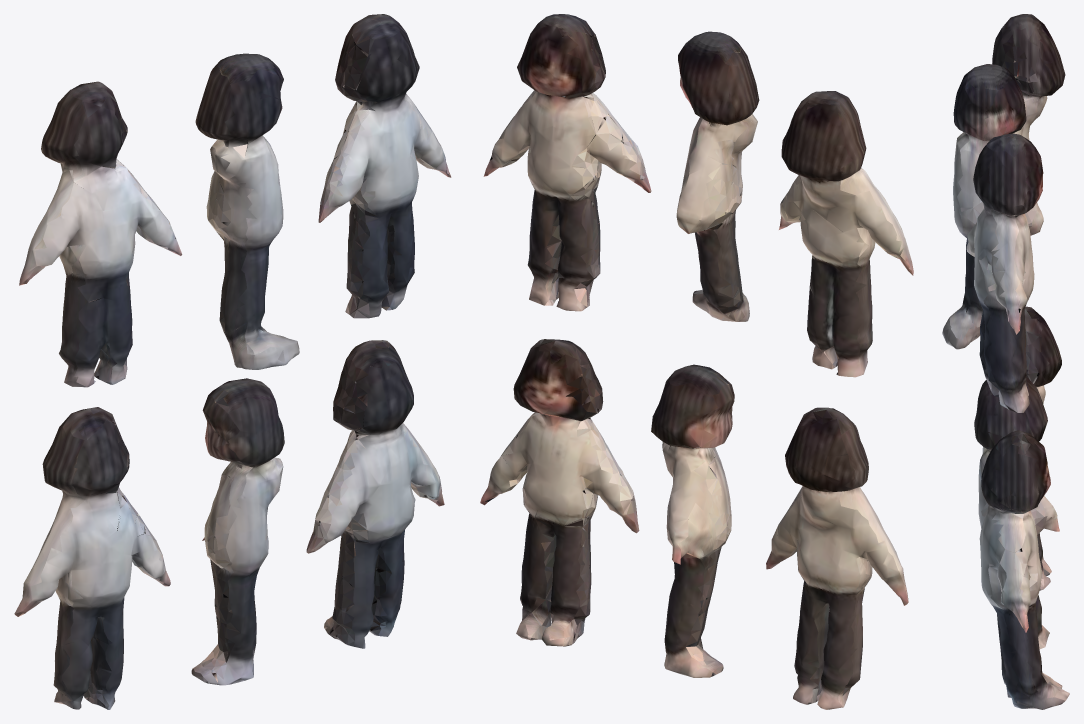
3 views of the same model, side by side, from view 1: azimuth 30°, elevation 25°; view 2: azimuth 150°, elevation 25°; view 3: azimuth 270°, elevation 25° (orthographic). The views are drawn at different scales.
Visible parts, largest first — view 1: world; view 2: world; view 3: world.
Boxes of the visible parts, left/top/right/bottom form: world: left=14, top=14, right=451, bottom=709; world: left=480, top=14, right=913, bottom=709; world: left=942, top=14, right=1069, bottom=709.
Size of the model in its own units: 0.6771 by 0.9393 by 0.1893.
1 material, 1 textured.
